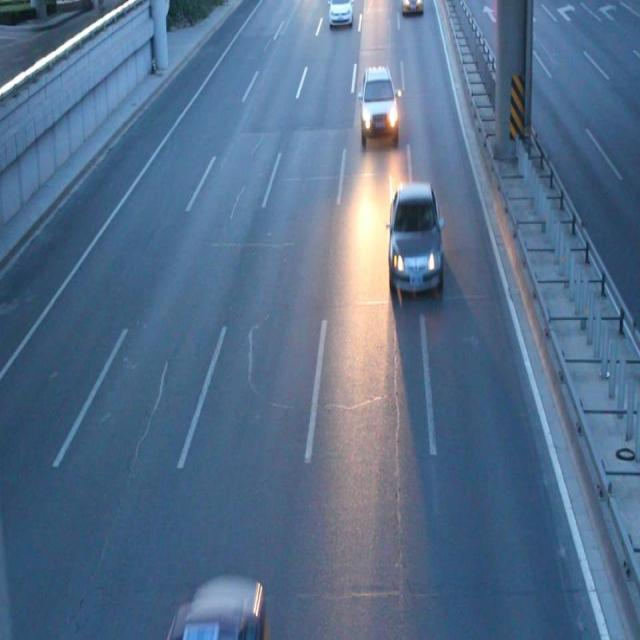car: (160, 571, 269, 640), (385, 183, 442, 291), (357, 66, 398, 139), (328, 1, 353, 27)
